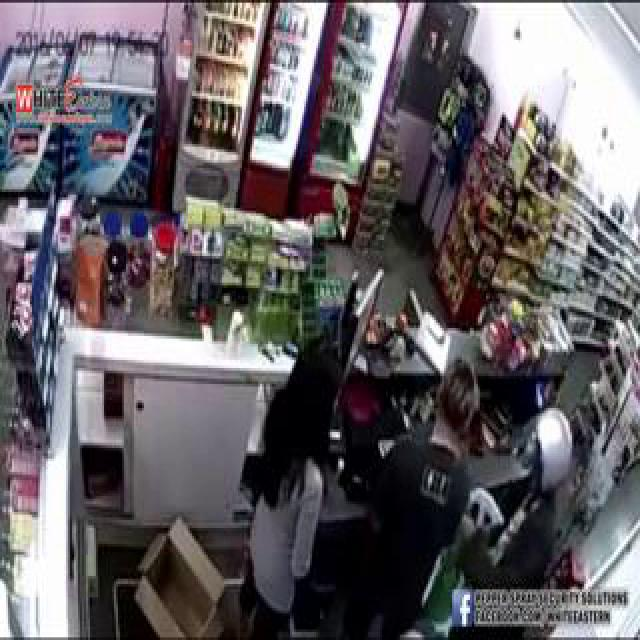robbery: (215, 69, 607, 640)
